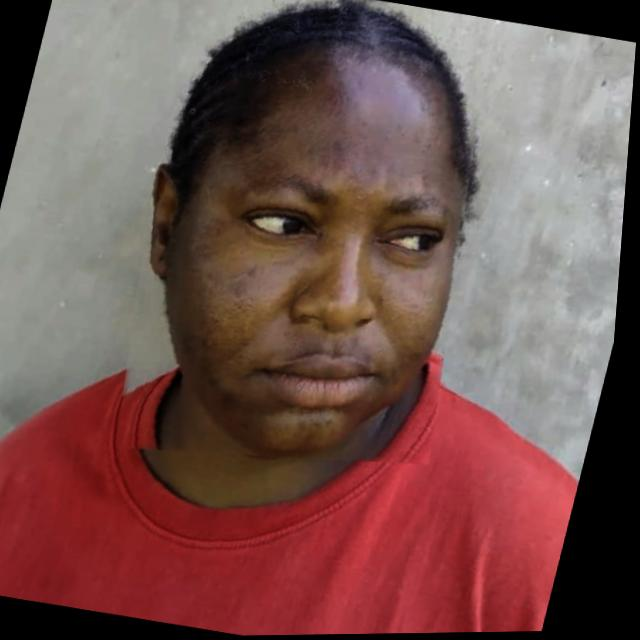sad: (84, 0, 528, 493)
